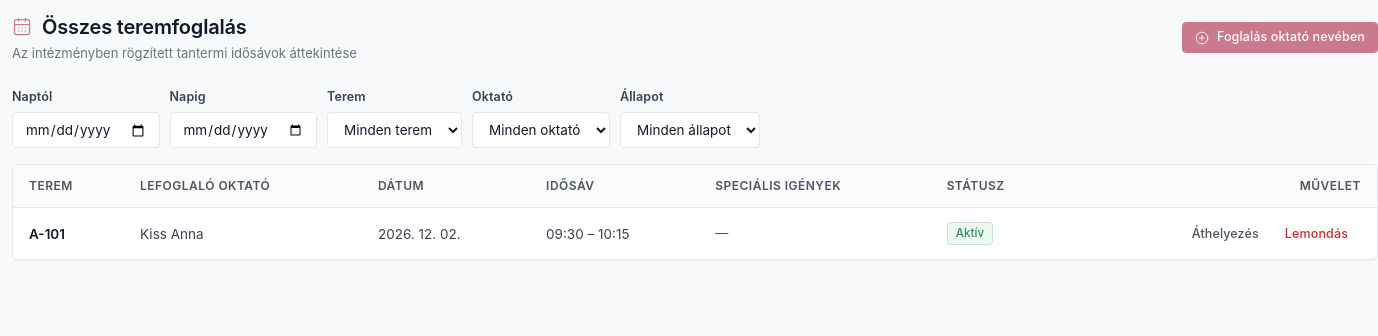
it: BookingsPage › cancels a booking after confirmation
Click the button with aria-label "#5 foglalás lemondása".
click(1316, 234)  # box [1272,220,1361,247]
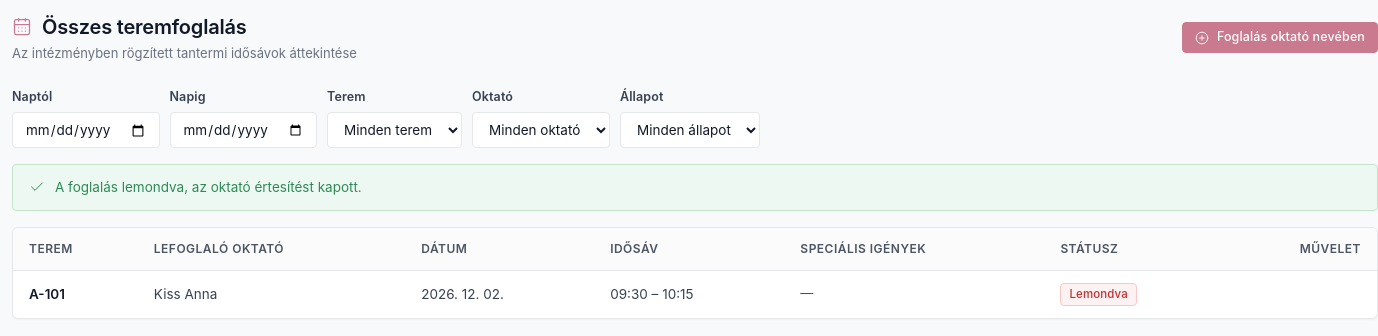
Expected: the text "A foglalás lemondva, az oktató értesítést kapott." is shown, [55,177,362,198]
